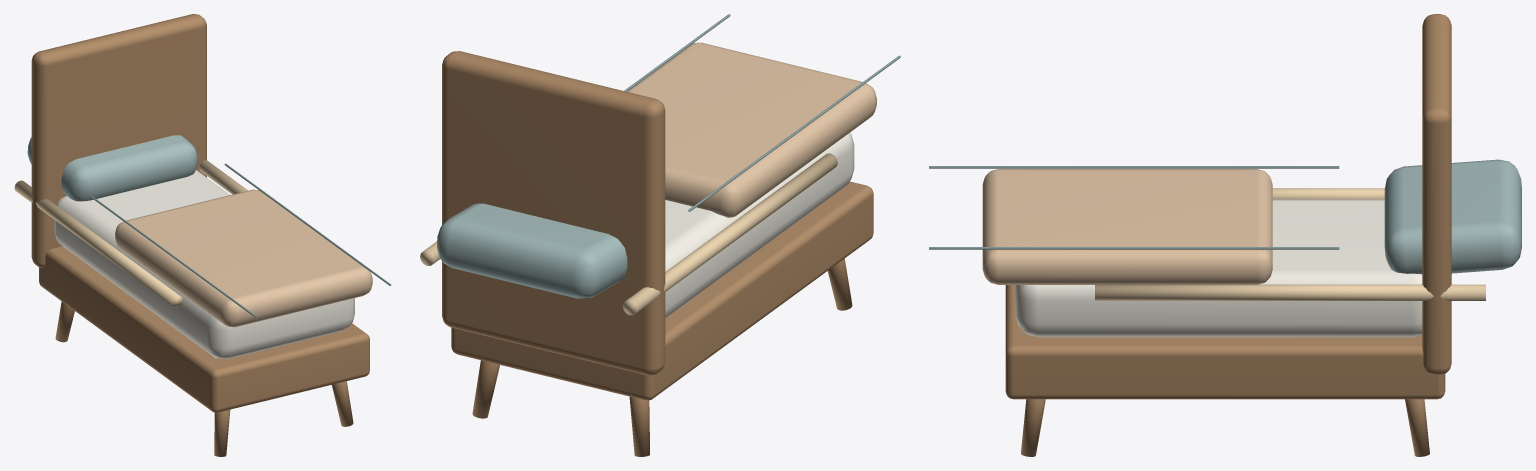
File: atelier-toddler-bed.glb
3 renders of one model, left to right at view 1: azimuth 30°, elevation 25°; view 2: azimuth 150°, elevation 25°; view 3: azimuth 270°, elevation 25°, orthographic. The views are drawn at different scales.
Parts seen in each view (by area): view 1: legs.029, bedding.006, ceramic.006, fabric.032, accent.008, seams.031; view 2: legs.029, bedding.006, fabric.032, ceramic.006, accent.008, seams.031; view 3: legs.029, bedding.006, ceramic.006, fabric.032, accent.008, seams.031.
Boxes of the visible parts, bbox=[...] form: legs.029: bbox=[31, 14, 369, 456]; bedding.006: bbox=[115, 189, 372, 327]; ceramic.006: bbox=[54, 170, 354, 359]; fabric.032: bbox=[27, 135, 197, 201]; accent.008: bbox=[14, 160, 247, 307]; seams.031: bbox=[91, 163, 391, 318]; legs.029: bbox=[442, 51, 873, 456]; bedding.006: bbox=[627, 42, 876, 217]; fabric.032: bbox=[437, 203, 627, 298]; ceramic.006: bbox=[665, 132, 854, 317]; accent.008: bbox=[420, 153, 837, 315]; seams.031: bbox=[624, 14, 900, 211]; legs.029: bbox=[1005, 14, 1451, 456]; bedding.006: bbox=[982, 169, 1272, 284]; ceramic.006: bbox=[1015, 199, 1422, 337]; fabric.032: bbox=[1384, 159, 1521, 274]; accent.008: bbox=[1095, 188, 1485, 300]; seams.031: bbox=[929, 166, 1339, 249].
Bounding box in the file's own units: 0.75 × 1.2 × 1.82.
